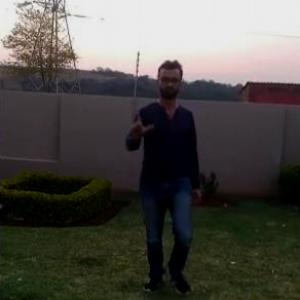land_hand: (128, 98, 160, 138)
